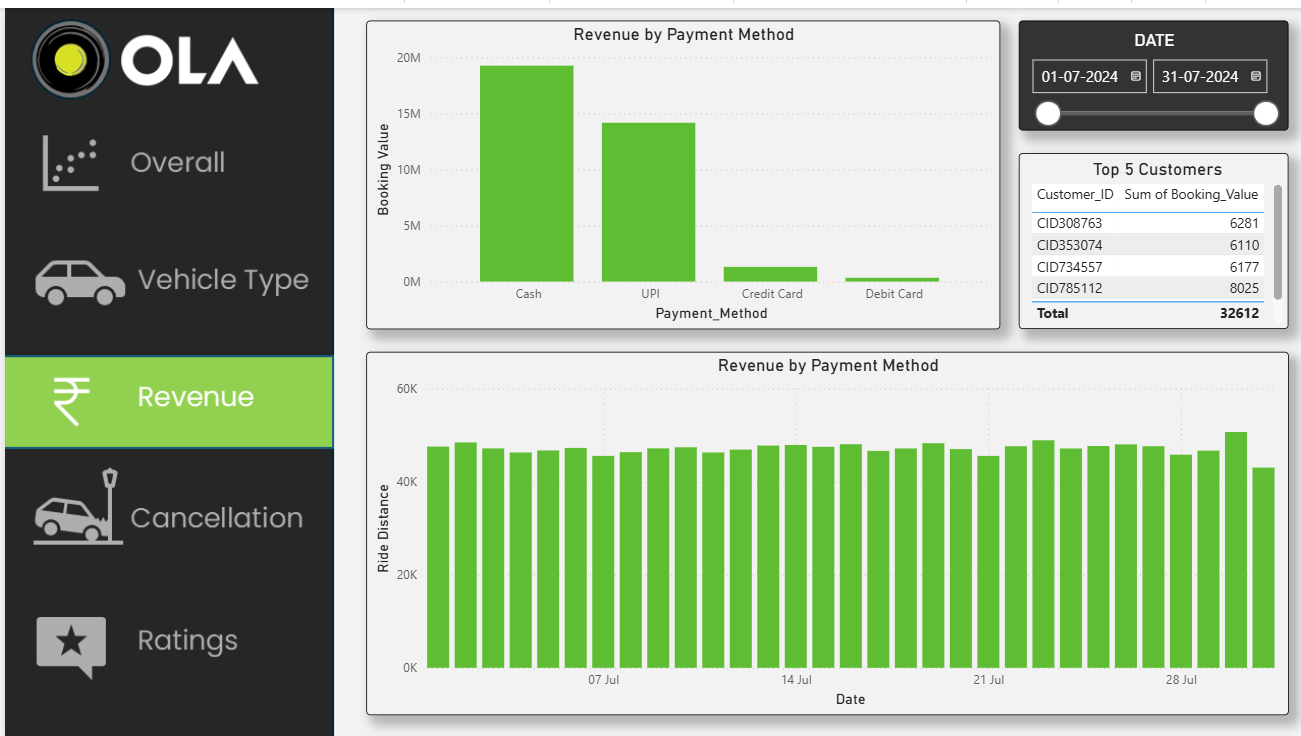

Layout of this report page (visuals, bound fields, positions):
{"tool":"powerbi","page":{"name":"Revenue","canvas":[1280,720],"ordinal":2},"visuals":[{"type":"actionButton","box":[0,224.5,322.7,90.8],"z":0},{"type":"actionButton","box":[0,457.7,322.7,90.8],"z":1000},{"type":"actionButton","box":[0,579.1,322.7,90.8],"z":2000},{"type":"actionButton","box":[0,109.2,322.7,90.8],"z":3000},{"type":"columnChart","title":"Revenue by Payment Method","fields":{"Y":["Sum(July.Booking_Value)"],"Category":["July.Payment_Method"]},"box":[354.6,12.3,622.1,303.1],"z":4000},{"type":"columnChart","title":"Revenue by Payment Method","fields":{"Category":["July.Date"],"Y":["Sum(July.Ride_Distance)"]},"box":[354.6,337.4,905.5,357.1],"z":5000},{"type":"slicer","title":"DATE","fields":{"Values":["July.Date"]},"box":[995.1,12.3,265,108],"z":6000},{"type":"tableEx","title":"Top 5 Customers","fields":{"Values":["July.Customer_ID","Sum(July.Booking_Value)"]},"box":[995.1,142.3,265,173],"z":7000}]}

Visuals, with their boxes in screenshot pixels (x1, y1, x2, y2), scaled from the page's 1280x720 canvas onto the 1301x736 screenshot:
actionButton: bbox=(0, 229, 328, 322)
actionButton: bbox=(0, 468, 328, 561)
actionButton: bbox=(0, 592, 328, 685)
actionButton: bbox=(0, 112, 328, 204)
"Revenue by Payment Method" columnChart: bbox=(360, 13, 993, 322)
"Revenue by Payment Method" columnChart: bbox=(360, 345, 1281, 710)
"DATE" slicer: bbox=(1011, 13, 1281, 123)
"Top 5 Customers" tableEx: bbox=(1011, 145, 1281, 322)
